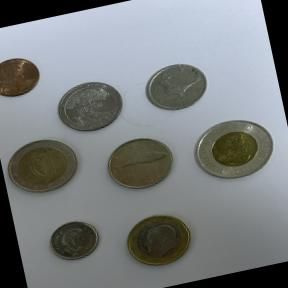coin: (182, 105, 286, 194), (112, 200, 207, 278), (94, 125, 186, 202), (0, 130, 86, 204), (48, 70, 135, 141), (38, 210, 108, 270), (0, 43, 52, 107)
